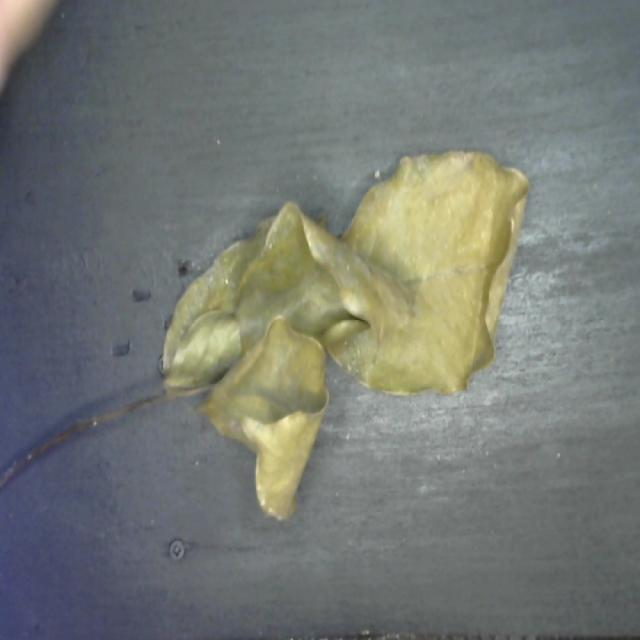biodegradable: (156, 146, 534, 532)
